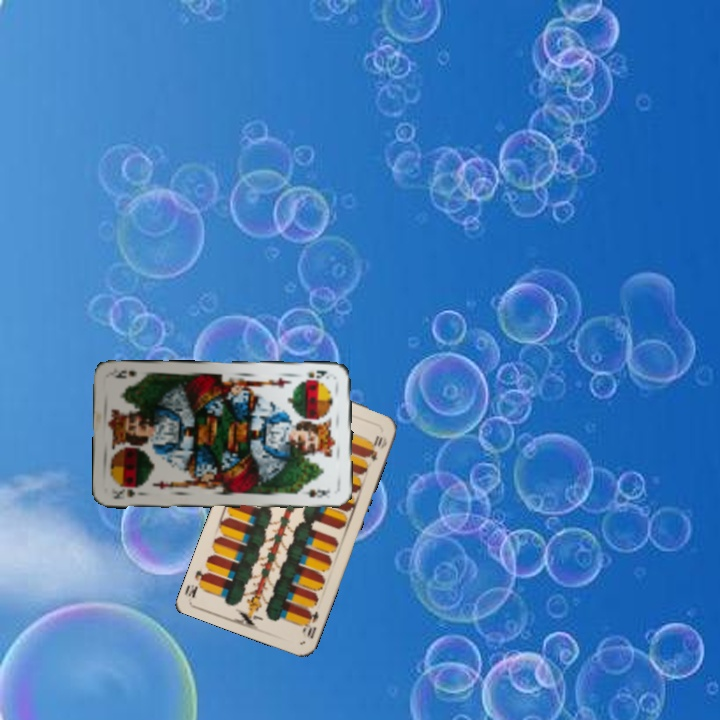E10: (298, 606, 321, 641)
SK: (108, 485, 148, 501), (304, 366, 332, 381)
